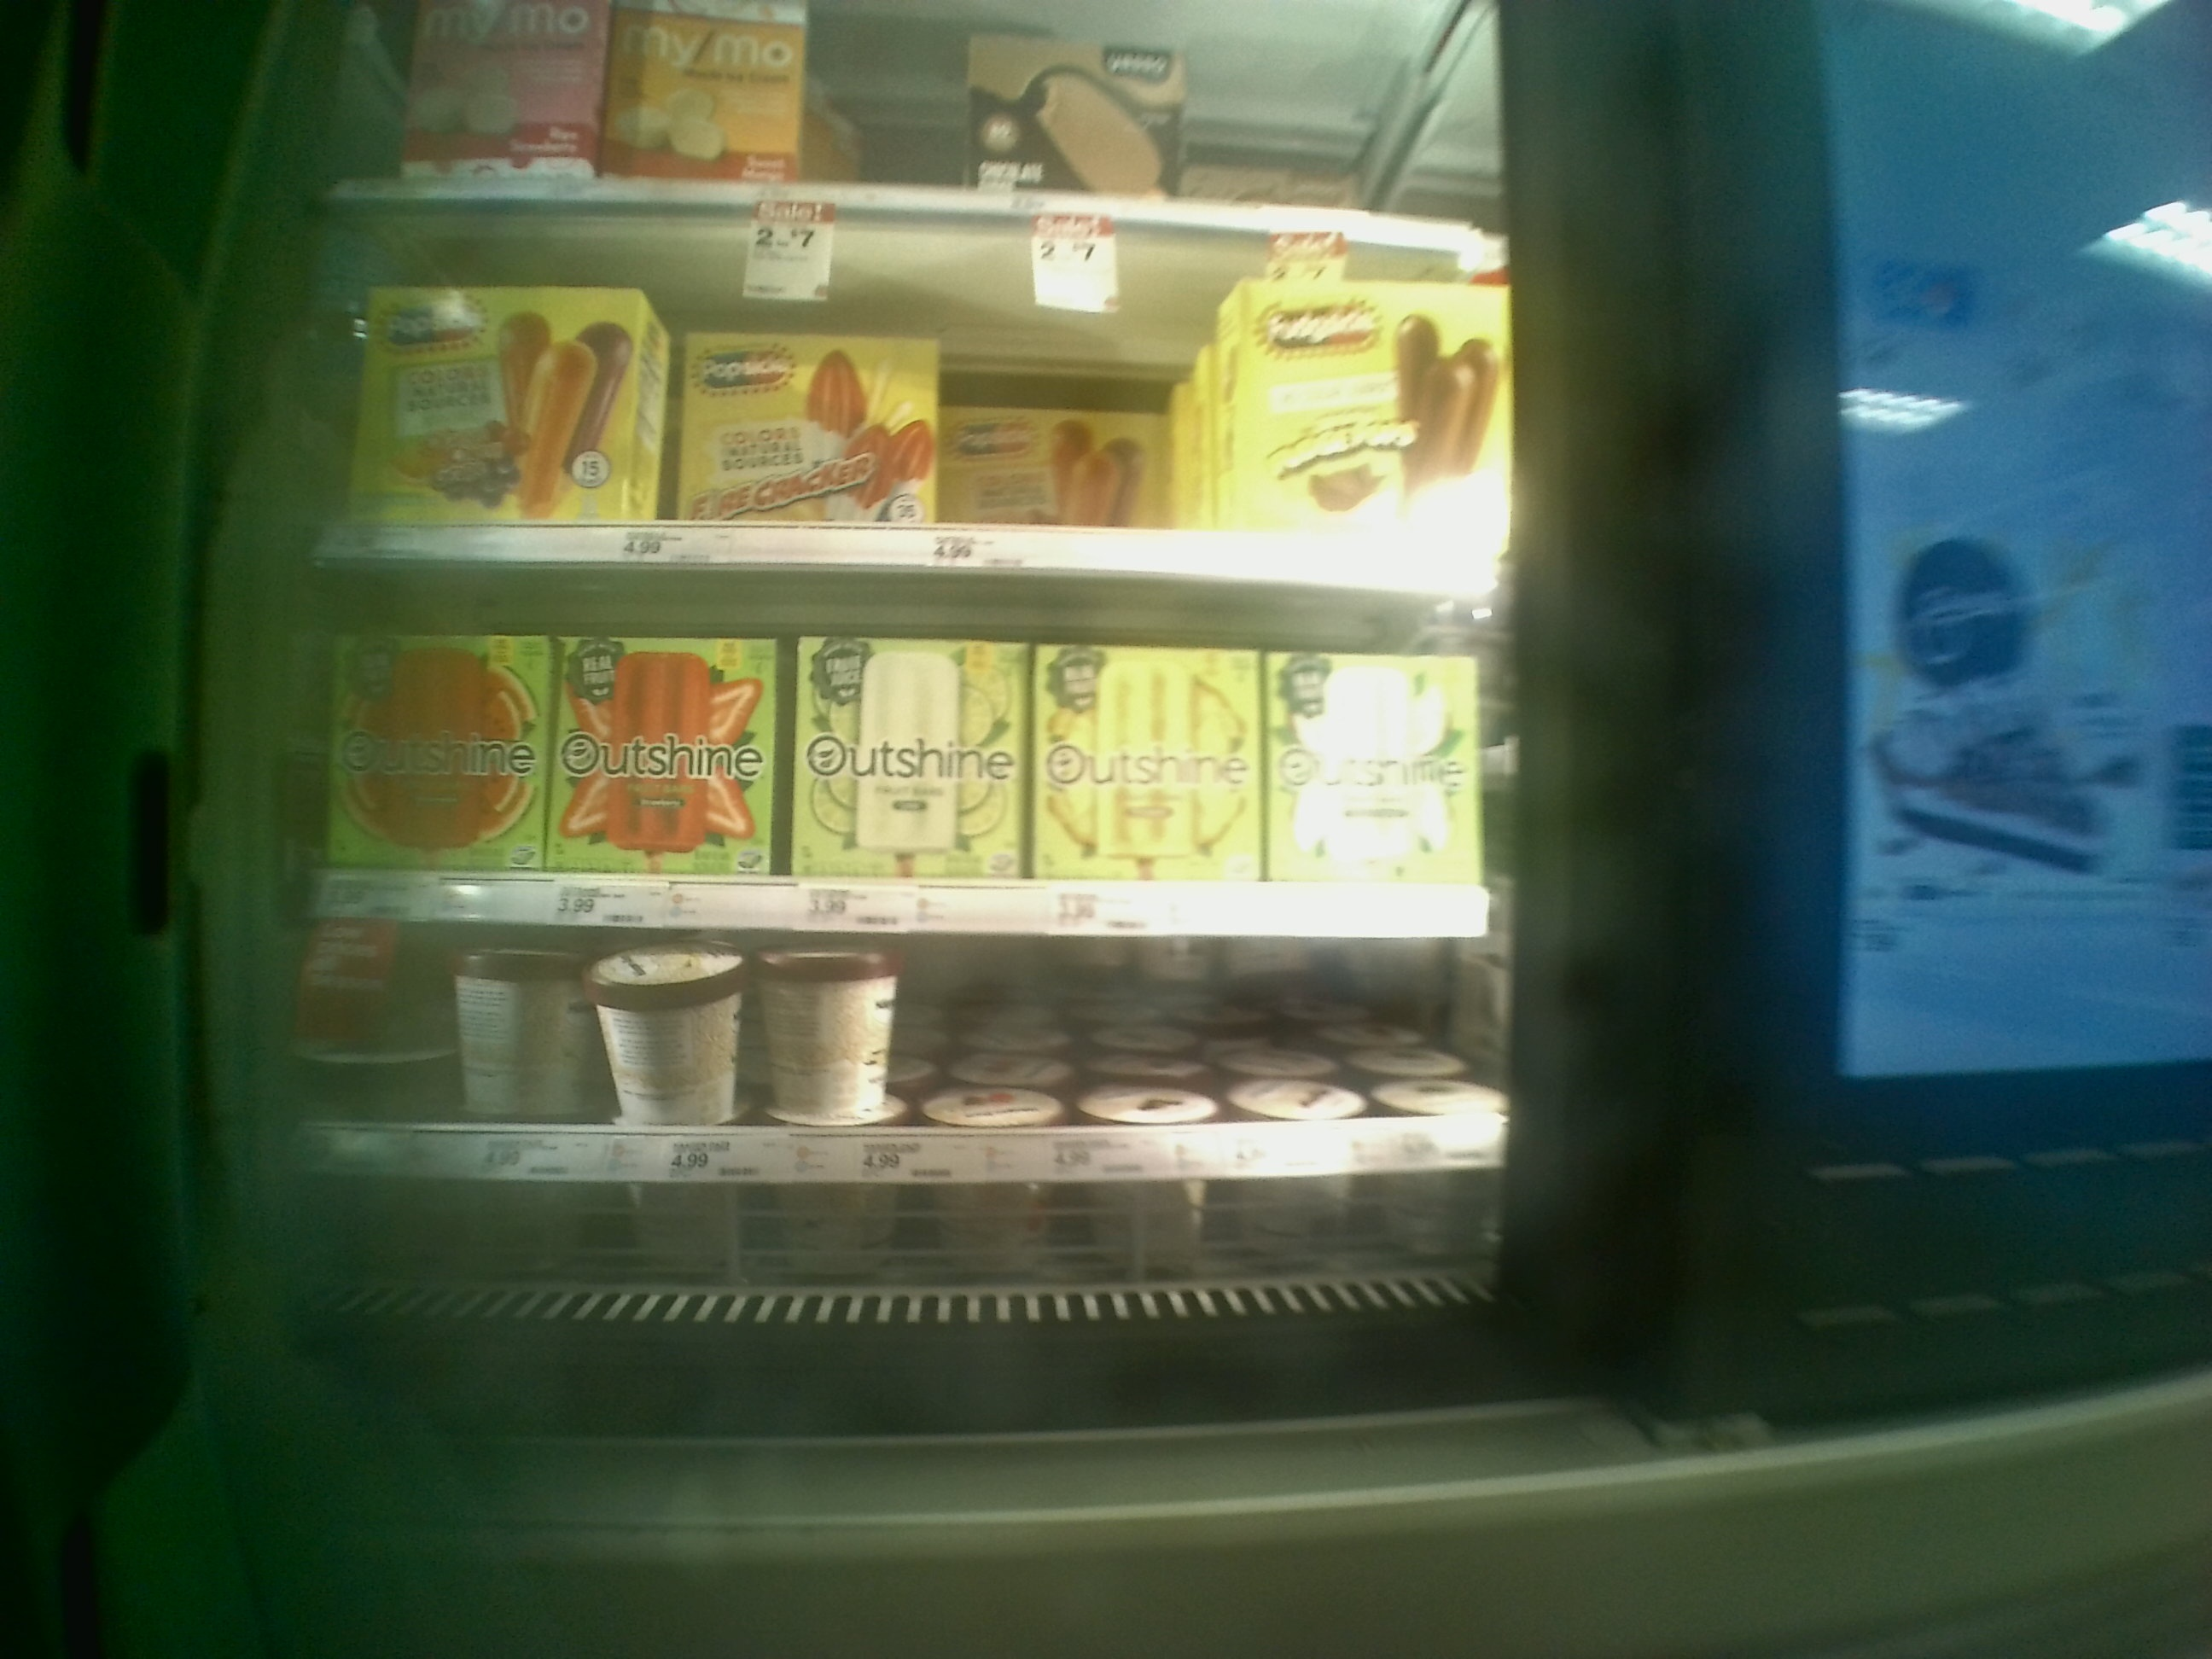ice-cream-shelf: (320, 563, 1498, 932), (315, 929, 1514, 1248)
